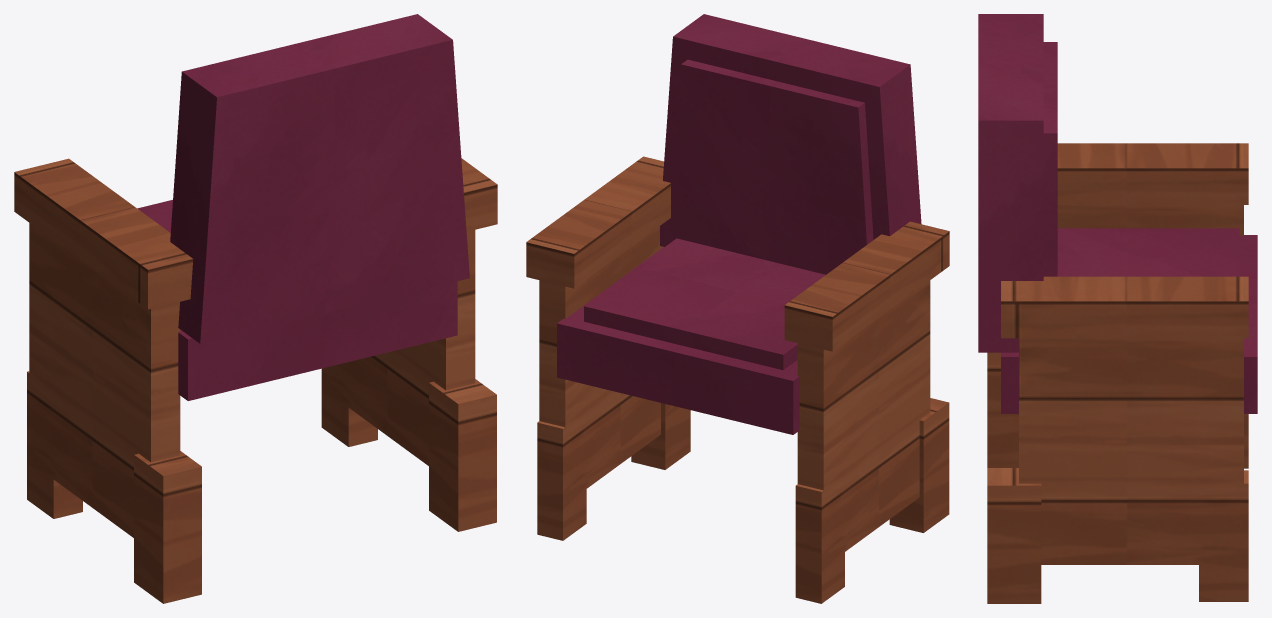
Rendered from SM_Theater_Seat_Single.fbx.
3 views of the same model, side by side, from view 1: azimuth 30°, elevation 25°; view 2: azimuth 150°, elevation 25°; view 3: azimuth 270°, elevation 25° (orthographic). The views are drawn at different scales.
Visible parts, largest first — view 1: SM_Theater_Seat_Single_LOD0; view 2: SM_Theater_Seat_Single_LOD0; view 3: SM_Theater_Seat_Single_LOD0.
Part boxes in pixels (x1=…): SM_Theater_Seat_Single_LOD0: x1=14, y1=14, x2=497, y2=603; SM_Theater_Seat_Single_LOD0: x1=526, y1=14, x2=949, y2=603; SM_Theater_Seat_Single_LOD0: x1=978, y1=14, x2=1257, y2=603.
Size of what is drawn, in the model's own units: 0.83 by 1.13 by 0.62.
